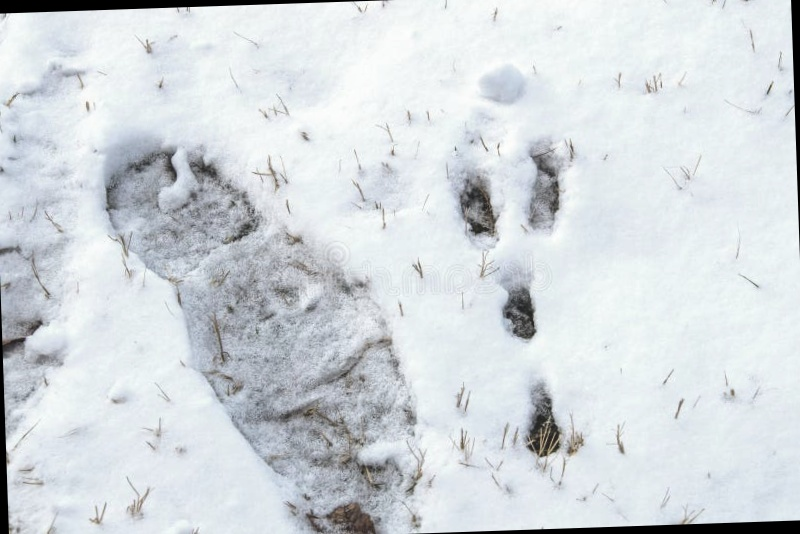rabbit: (430, 96, 592, 421)
